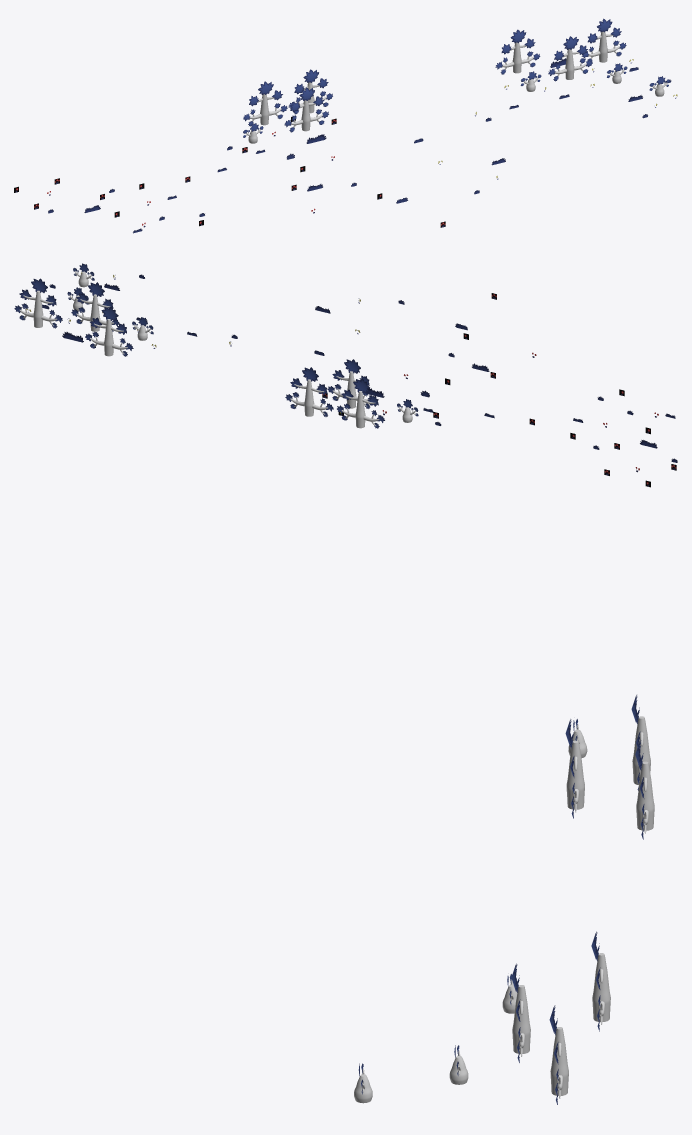
Rendered from plants_and_trees.fbx.
The picture shows the model from 3 angles, top to bottom: view 1: azimuth 30°, elevation 25°; view 2: azimuth 150°, elevation 25°; view 3: azimuth 270°, elevation 25°; orthographic projection. The views are drawn at different scales.
Parts seen in each view (by area): view 1: pCylinder11, pCylinder12, pCylinder14, pCylinder10, pCylinder13, tree:pCylinder10; view 2: pCylinder10, pCylinder12, tree:pCylinder10, pCylinder13, pCylinder14, pCylinder11; view 3: pCylinder14, pCylinder11, pCylinder12, tree:pCylinder10, pCylinder13.
Part boxes in pixels (<box>): pCylinder11: <box>284,87,328,132</box>; pCylinder12: <box>495,29,540,74</box>; pCylinder14: <box>548,36,592,81</box>; pCylinder10: <box>243,81,287,126</box>; pCylinder13: <box>581,18,626,62</box>; tree:pCylinder10: <box>288,69,332,114</box>; pCylinder10: <box>337,378,384,428</box>; pCylinder12: <box>85,307,133,356</box>; tree:pCylinder10: <box>285,367,333,416</box>; pCylinder13: <box>14,278,62,328</box>; pCylinder14: <box>71,282,119,331</box>; pCylinder11: <box>327,359,371,408</box>; pCylinder14: <box>511,963,530,1062</box>; pCylinder11: <box>565,719,584,818</box>; pCylinder12: <box>591,931,610,1031</box>; tree:pCylinder10: <box>635,740,654,839</box>; pCylinder13: <box>549,1005,568,1104</box>.
Bounding box in the file's own units: 291 × 20.54 × 128.
Materials: 19 (18 with a texture image).
